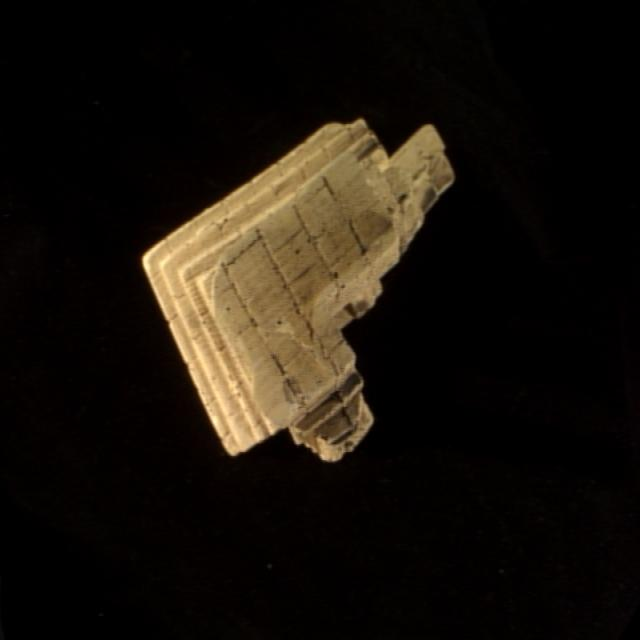Instance-Segmentation: (144, 120, 453, 460)
